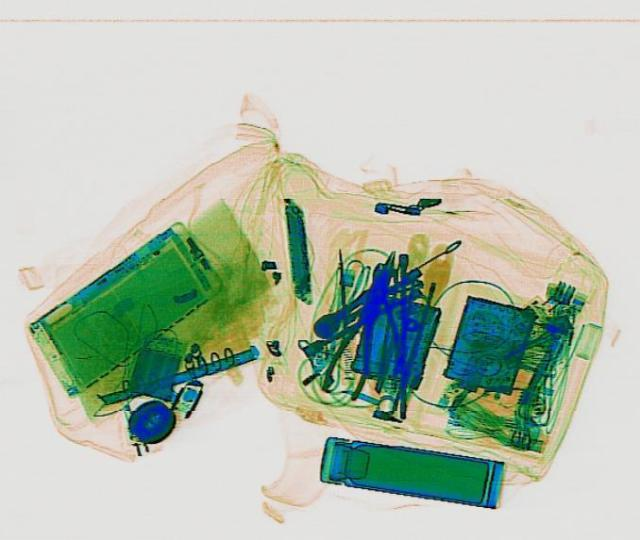Pliers: (315, 245, 415, 401), (357, 261, 401, 373)
